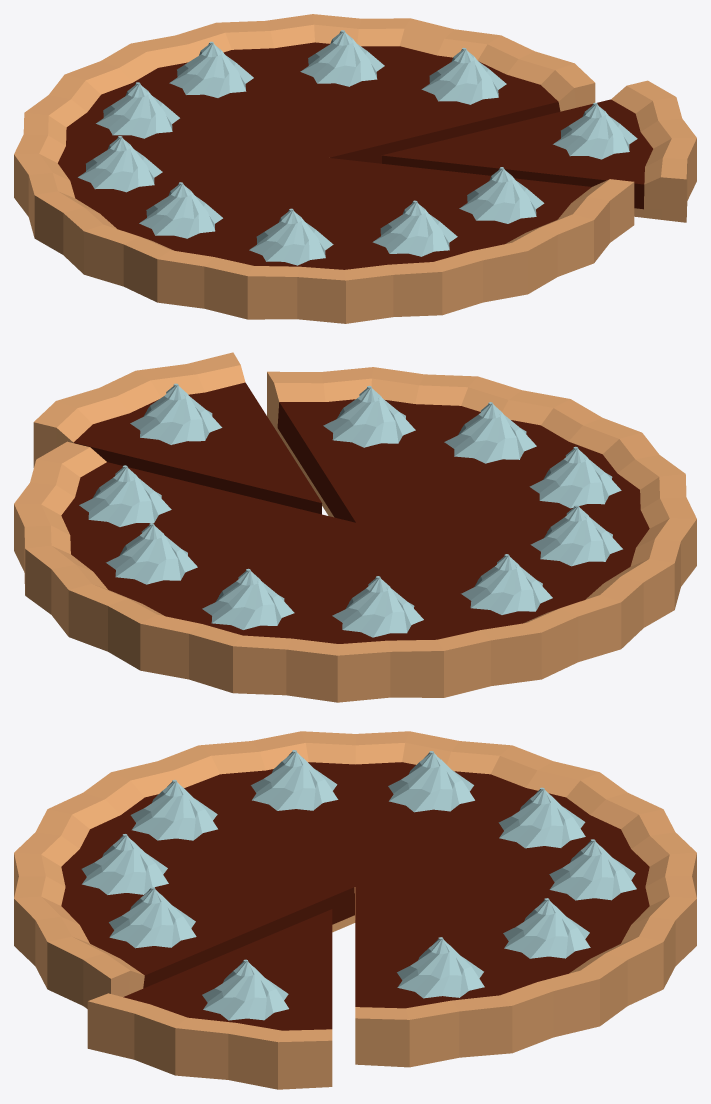
Rendered from Cake_Manis-Pahit_Bittersweet-Chocolat-Tart.fbx.
3 views of the same model, one above another, from view 1: azimuth 30°, elevation 25°; view 2: azimuth 150°, elevation 25°; view 3: azimuth 270°, elevation 25° (orthographic). The views are drawn at different scales.
Visible parts, largest first — view 1: Cylinder.012, Cylinder.013, Cylinder.019, Cylinder.018, Cylinder.022, Cylinder.023, Cylinder.020, Cylinder.017, Cylinder.021, Cylinder.016, Cylinder.015, Cylinder.014; view 2: Cylinder.012, Cylinder.013, Cylinder.018, Cylinder.019, Cylinder.020, Cylinder.023, Cylinder.014, Cylinder.022, Cylinder.021, Cylinder.015, Cylinder.016, Cylinder.017; view 3: Cylinder.012, Cylinder.013, Cylinder.018, Cylinder.019, Cylinder.021, Cylinder.023, Cylinder.017, Cylinder.016, Cylinder.015, Cylinder.022, Cylinder.014, Cylinder.020.
Part boxes in pixels (x1,y1,x2,y2): Cylinder.012: (14, 14, 634, 323); Cylinder.013: (381, 80, 696, 222); Cylinder.019: (421, 47, 506, 104); Cylinder.018: (459, 167, 544, 223); Cylinder.022: (96, 82, 179, 138); Cylinder.023: (372, 200, 457, 256); Cylinder.020: (300, 30, 384, 86); Cylinder.017: (249, 208, 333, 265); Cylinder.021: (169, 41, 253, 97); Cylinder.016: (139, 182, 222, 238); Cylinder.015: (78, 136, 162, 192); Cylinder.014: (553, 102, 637, 159); Cylinder.012: (14, 367, 696, 702); Cylinder.013: (33, 352, 322, 514); Cylinder.018: (323, 385, 415, 447); Cylinder.019: (79, 465, 171, 526); Cylinder.020: (106, 523, 197, 584); Cylinder.023: (444, 402, 536, 463); Cylinder.014: (130, 383, 222, 444); Cylinder.022: (332, 576, 423, 637); Cylinder.021: (202, 568, 294, 629); Cylinder.015: (461, 554, 552, 614); Cylinder.016: (530, 505, 622, 566); Cylinder.017: (529, 446, 621, 508); Cylinder.012: (14, 731, 696, 1067); Cylinder.013: (87, 909, 332, 1089); Cylinder.018: (109, 887, 196, 948); Cylinder.019: (397, 937, 484, 998); Cylinder.021: (549, 839, 636, 900); Cylinder.023: (81, 834, 168, 894); Cylinder.017: (130, 779, 217, 840); Cylinder.016: (251, 750, 338, 810); Cylinder.015: (388, 751, 474, 812); Cylinder.022: (498, 787, 585, 848); Cylinder.014: (202, 959, 288, 1020); Cylinder.020: (503, 898, 590, 958).
Size of the model in its own units: 309 by 36.06 by 286.
